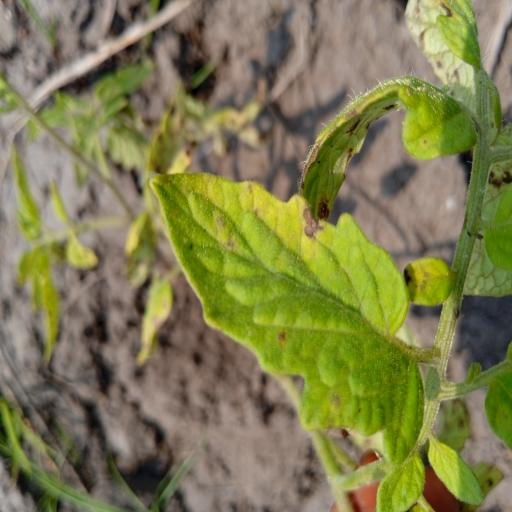Tomato_Brown_Spots: (151, 166, 433, 480)
